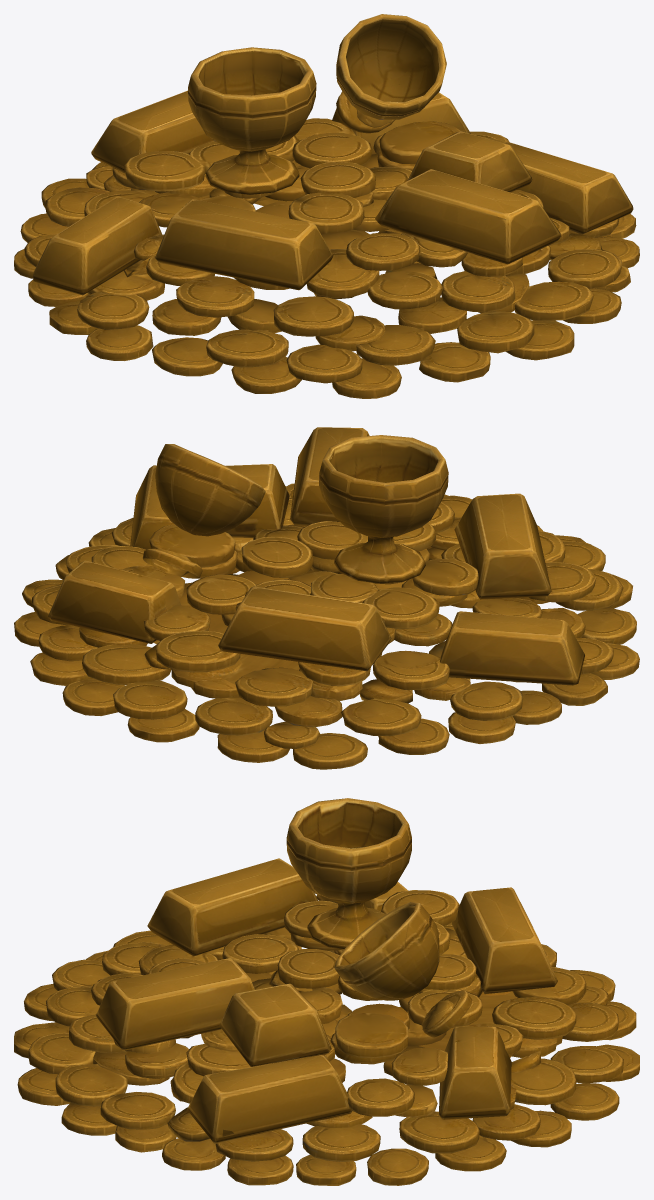
The model's file is gold_loot.glb.
3 views of the same model, one above another, from view 1: azimuth 30°, elevation 25°; view 2: azimuth 150°, elevation 25°; view 3: azimuth 270°, elevation 25° (orthographic).
Visible parts, largest first — view 1: mesh_node; view 2: mesh_node; view 3: mesh_node.
Boxes of the visible parts, x1,y1,x2,y2 form: mesh_node: [14, 14, 639, 398]; mesh_node: [14, 427, 639, 769]; mesh_node: [14, 798, 639, 1185].
Bounding box in the file's own units: 1 × 0.3545 × 1.
Materials: 1 (1 with a texture image).
